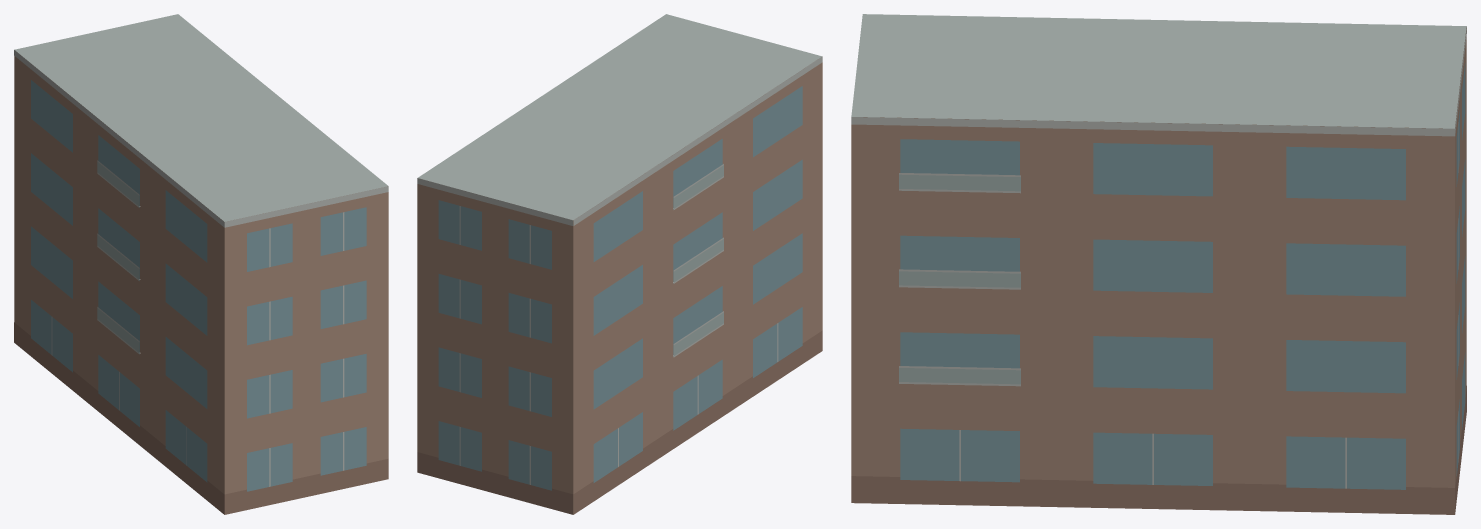
File: survey-upis-32823094.glb
3 views of the same model, side by side, from view 1: azimuth 30°, elevation 25°; view 2: azimuth 150°, elevation 25°; view 3: azimuth 270°, elevation 25° (orthographic). The views are drawn at different scales.
Parts seen in each view (by area): view 1: survey-upis-32823094.tmp; view 2: survey-upis-32823094.tmp; view 3: survey-upis-32823094.tmp.
Boxes of the visible parts, box(x1,y1,x2,y2) form: survey-upis-32823094.tmp: box(14, 14, 388, 514); survey-upis-32823094.tmp: box(417, 14, 822, 514); survey-upis-32823094.tmp: box(851, 14, 1466, 514).
Size of the model in its own units: 7.78 by 12.2 by 17.63.
